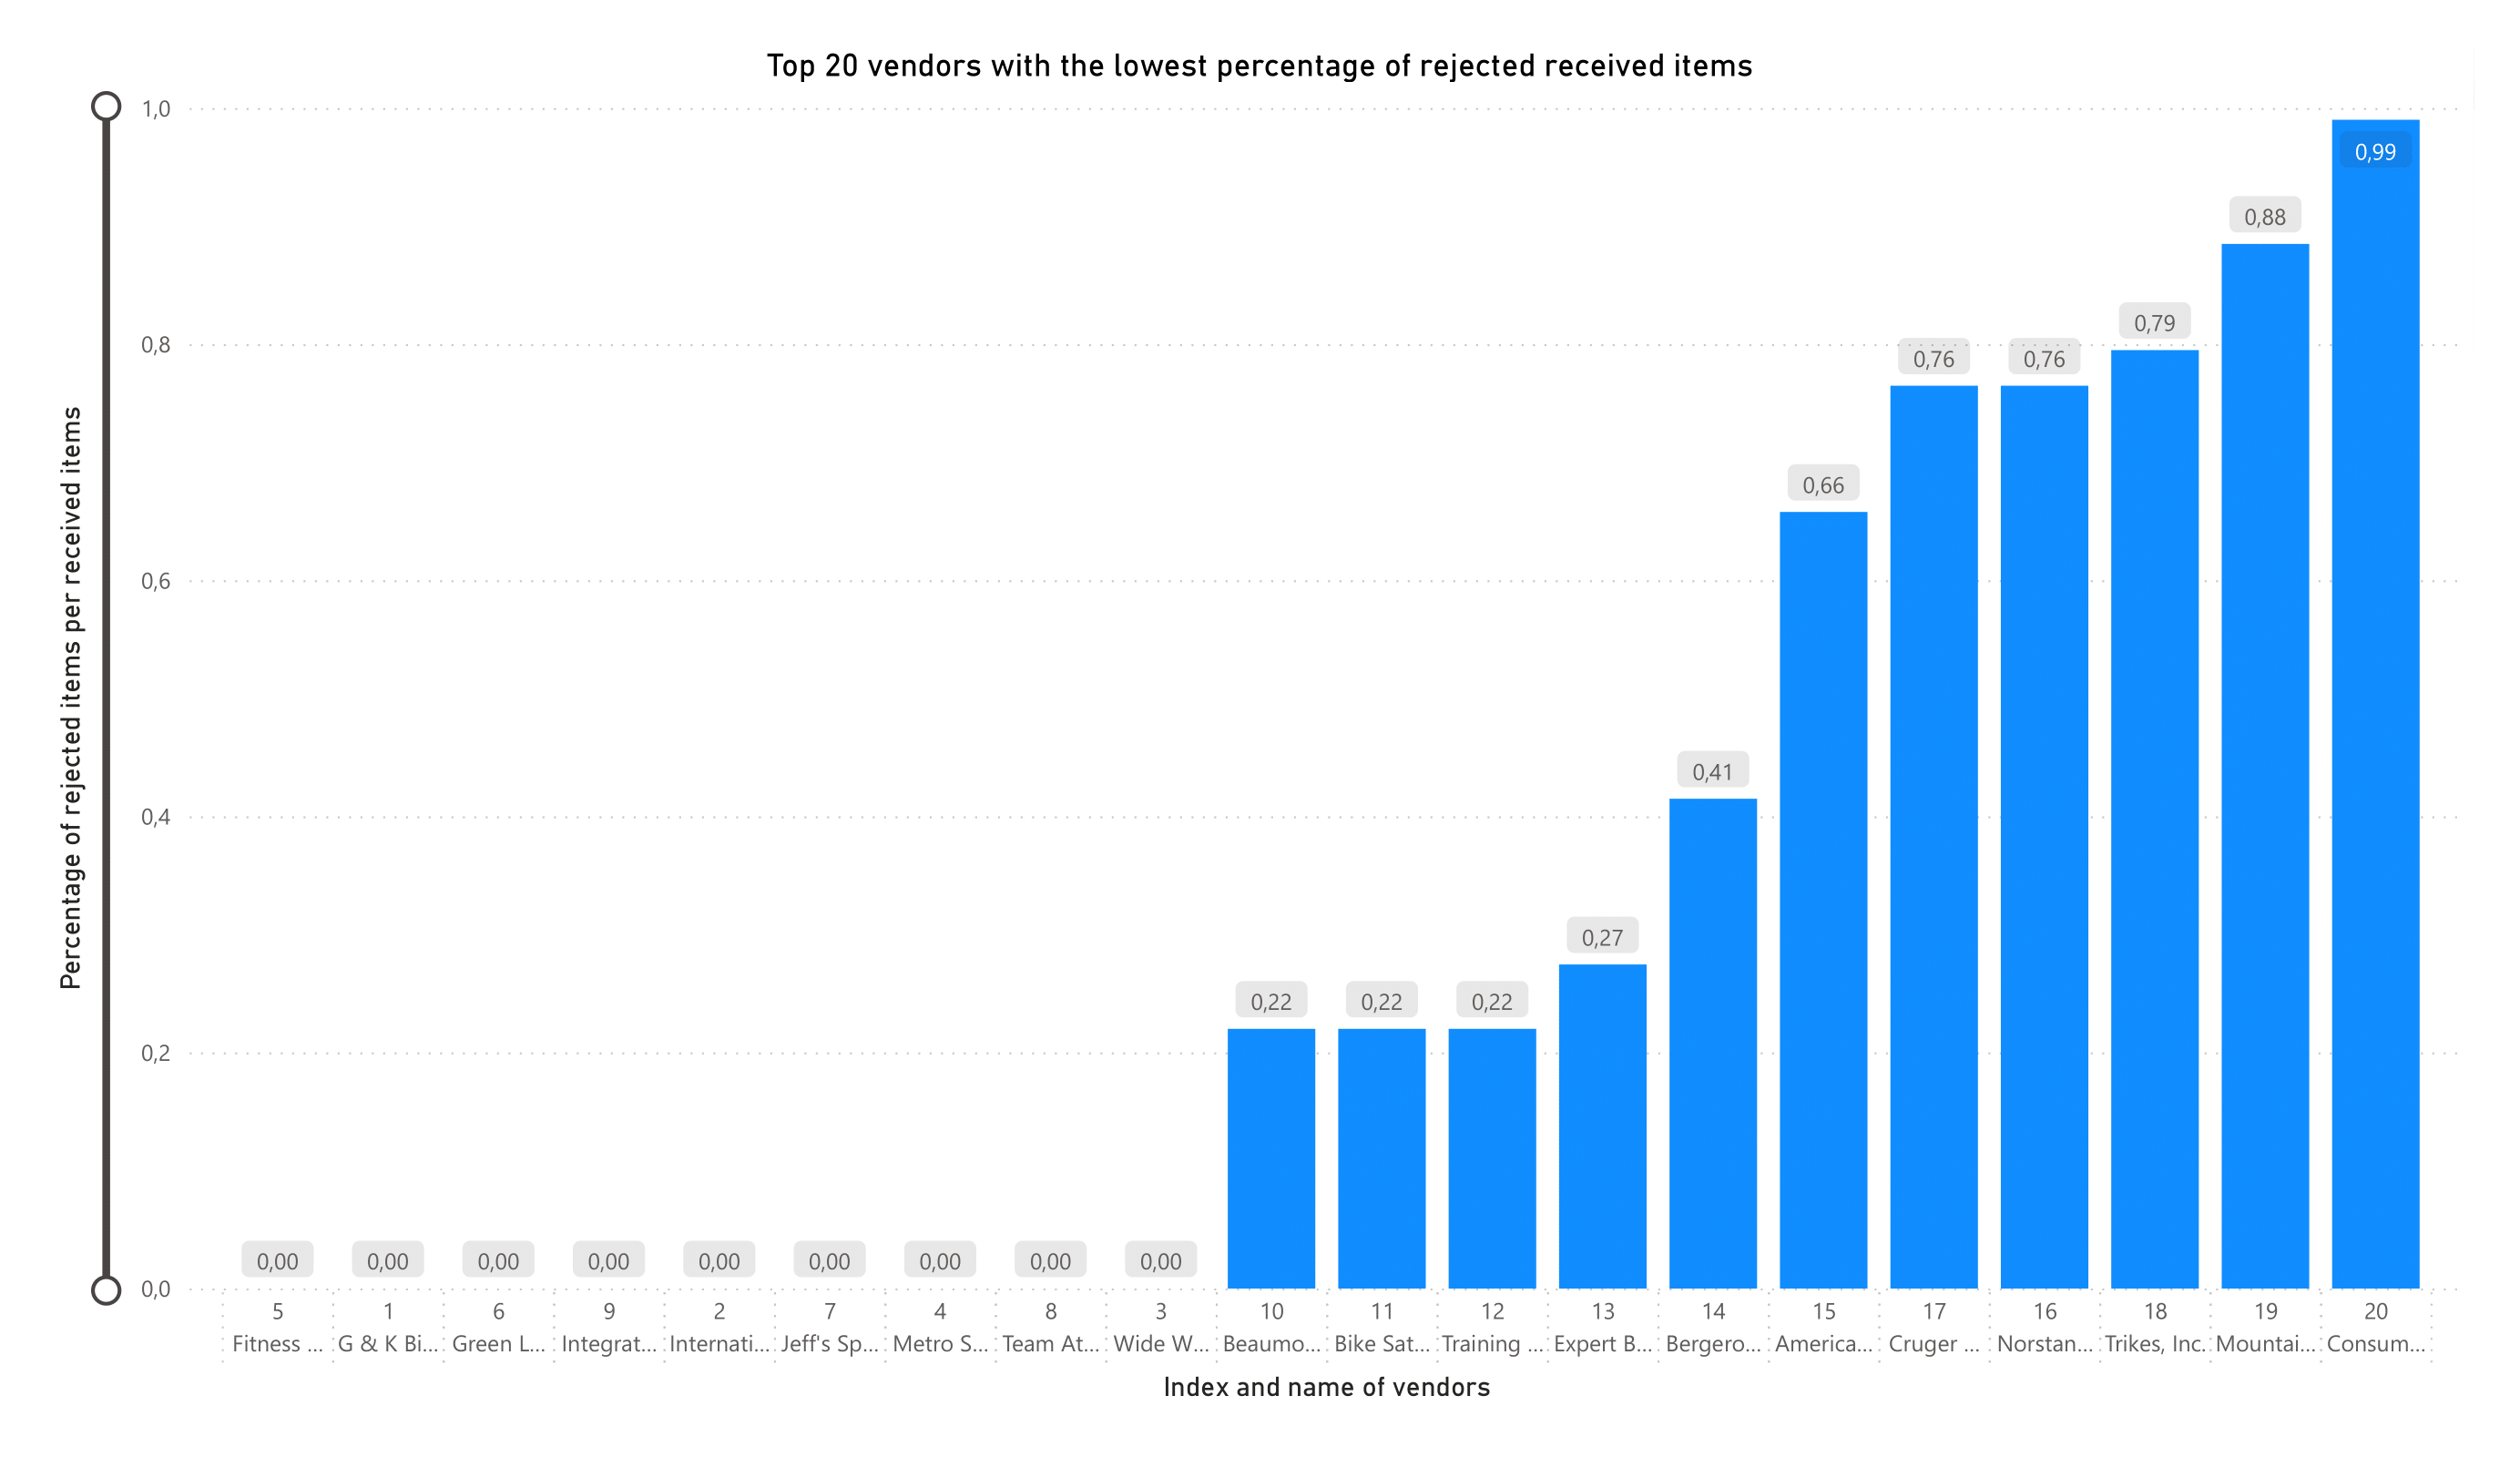

This screenshot's page, from the dashboard's own definition file:
{"tool":"powerbi","page":{"name":"Top 5 vendors with least rejected items","canvas":[1280,720],"ordinal":1},"visuals":[{"type":"columnChart","title":"Top 20 vendors with the lowest percentage of rejected received items","fields":{"Category":["Top5 vendors.NAME","Top5 vendors.Index"],"Y":["Sum(Top5 vendors.REJECTED)"]},"box":[0,0,1280,720.3],"z":0}]}

Visuals, with their boxes on the page's 1280x720 design canvas (x1, y1, x2, y2). These are canvas units, not pixel positions in the 2520x1457 screenshot, which may show the page scaled, cropped or inside an application window:
"Top 20 vendors with the lowest percentage of rejected received items" columnChart: box(0, 0, 1280, 720)
